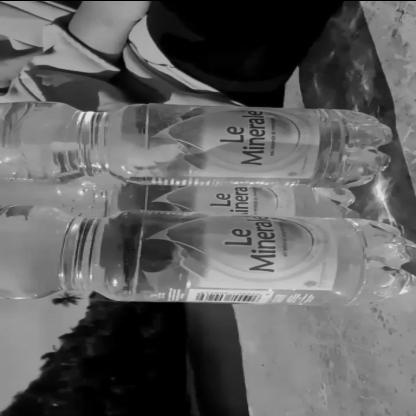plastic_bottles: (0, 212, 416, 304), (7, 98, 382, 184)
